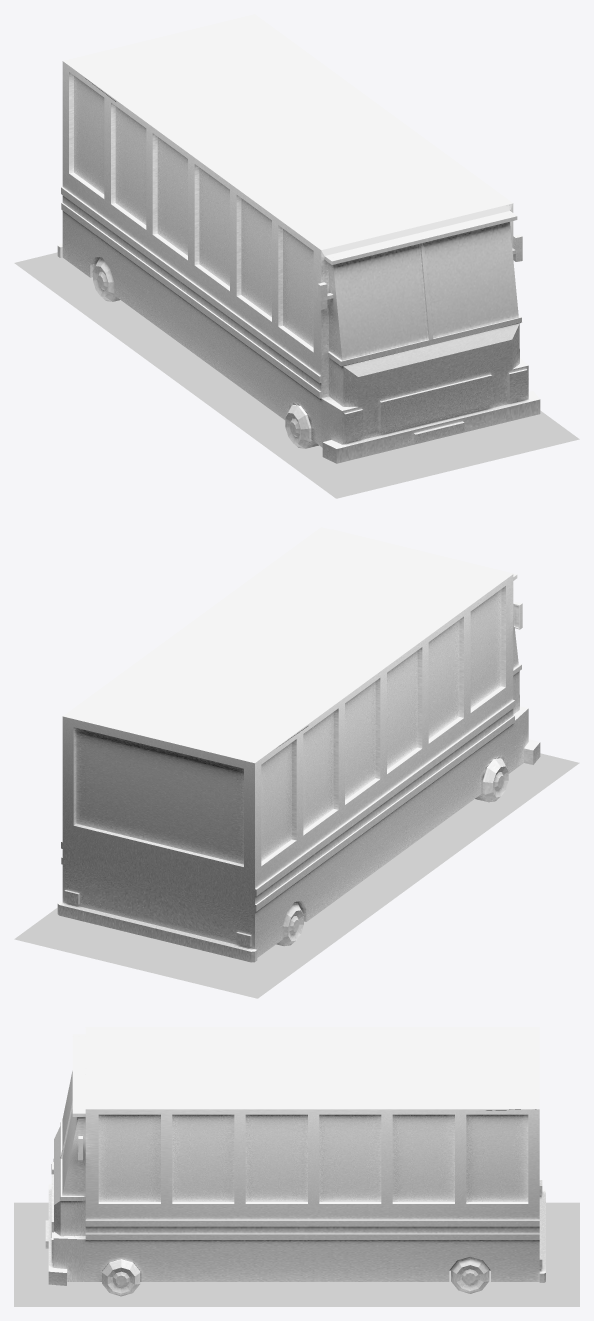
The model's file is bus.glb.
3 renders of one model, top to bottom at view 1: azimuth 30°, elevation 25°; view 2: azimuth 150°, elevation 25°; view 3: azimuth 270°, elevation 25°, orthographic. The views are drawn at different scales.
Visible parts, largest first — view 1: Entity, Plane; view 2: Entity, Plane; view 3: Entity, Plane.
Part boxes in pixels (x1=…): Entity: x1=57, y1=14, x2=540, y2=463; Plane: x1=14, y1=252, x2=579, y2=498; Entity: x1=57, y1=527, x2=540, y2=962; Plane: x1=14, y1=753, x2=579, y2=998; Entity: x1=45, y1=1027, x2=545, y2=1296; Plane: x1=14, y1=1202, x2=579, y2=1306.
Size of the model in its own units: 2.43 by 2.03 by 5.57.
Materials: 1 (1 with a texture image).
